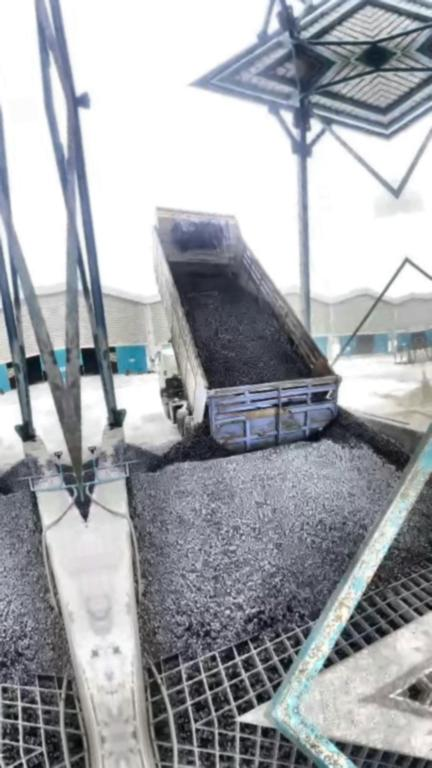gravel: (116, 411, 412, 663), (180, 289, 306, 391), (373, 458, 432, 584)
sand: (367, 384, 430, 426)
